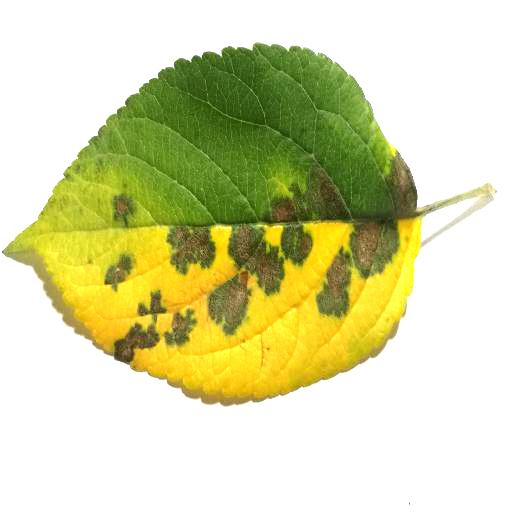Brown_Spot: (89, 187, 414, 343)
